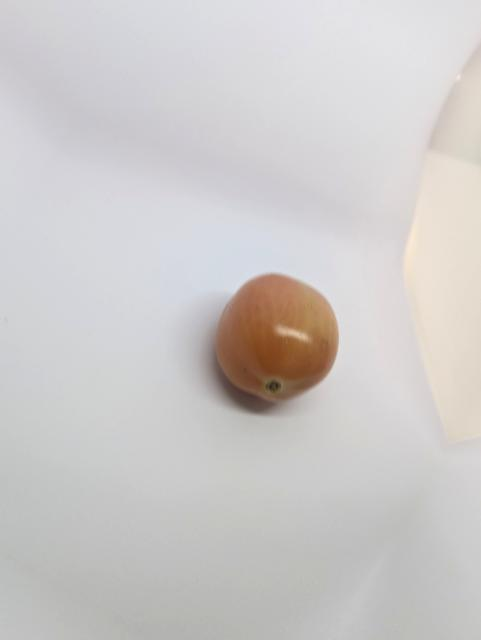turning: (208, 254, 353, 410)
